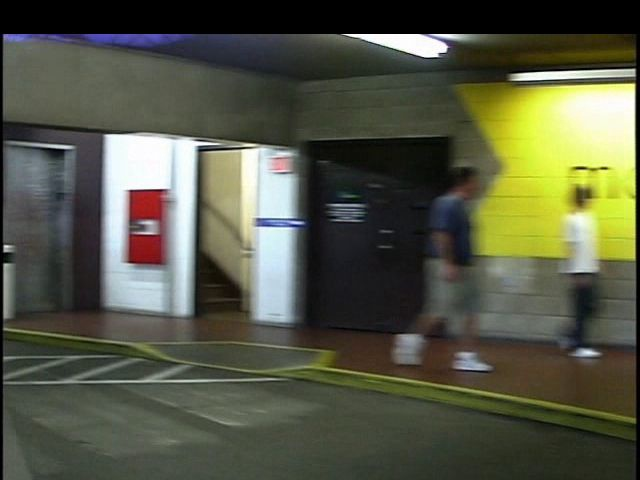person: (371, 161, 487, 375), (515, 173, 604, 363)
